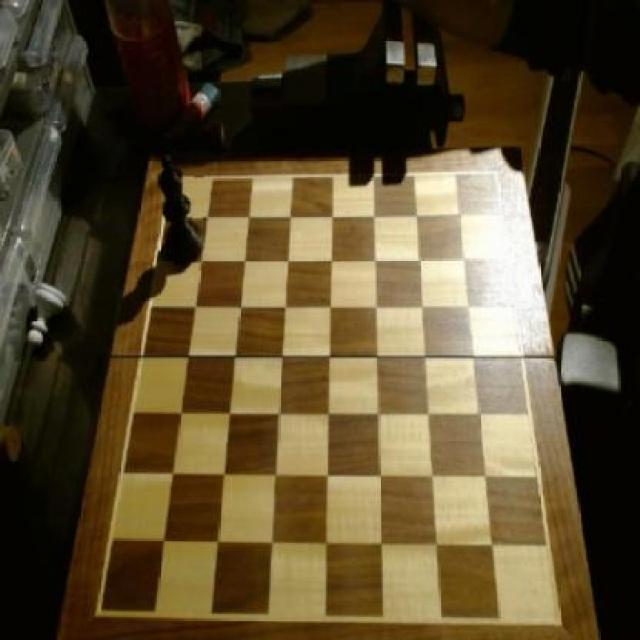black-bishop: (152, 156, 204, 272)
